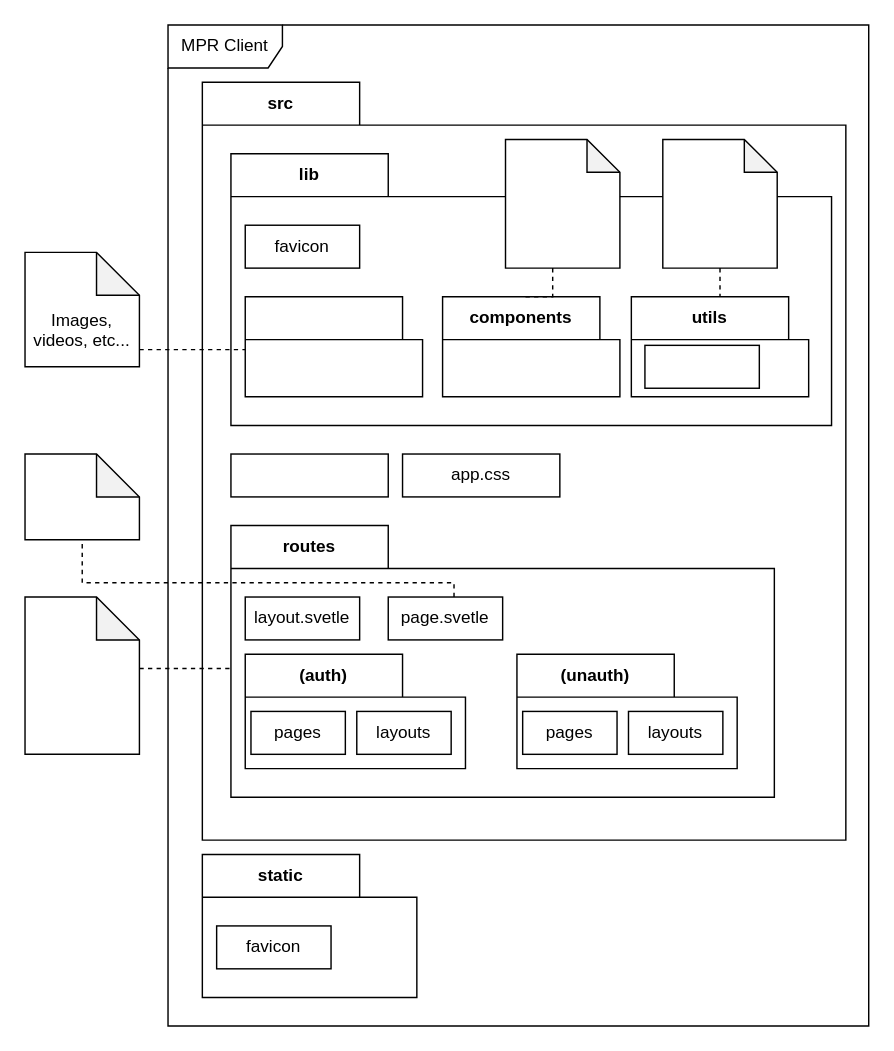
The diagram is 894 pixels wide and 1051 high, and some of its shapes have lost their labels. Each missing label, with the centre of its shape:
App root: the point at 81,496
app.html: the point at 309,475
assets: the point at 333,346
axios: the point at 701,366
Components used in pages.: the point at 562,203
Defining public and private routes on client with pages: the point at 81,675
Helper functions and utilities: the point at 719,203
